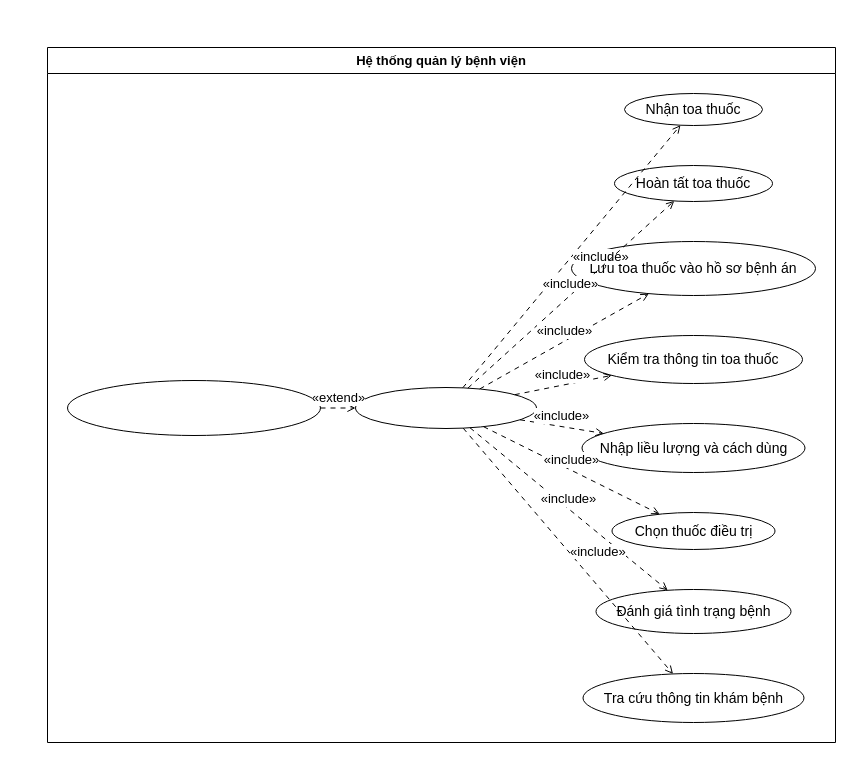
Some shapes in this 853 by 760 pixel diagram are drawn without their labels. Here are the shapes that lost their labels. From the top down, the centre of each, then its label:
(193,408): Xem kết quả xét nghiệm (nếu có)
(445,407): Lập và nhận toa thuốc
